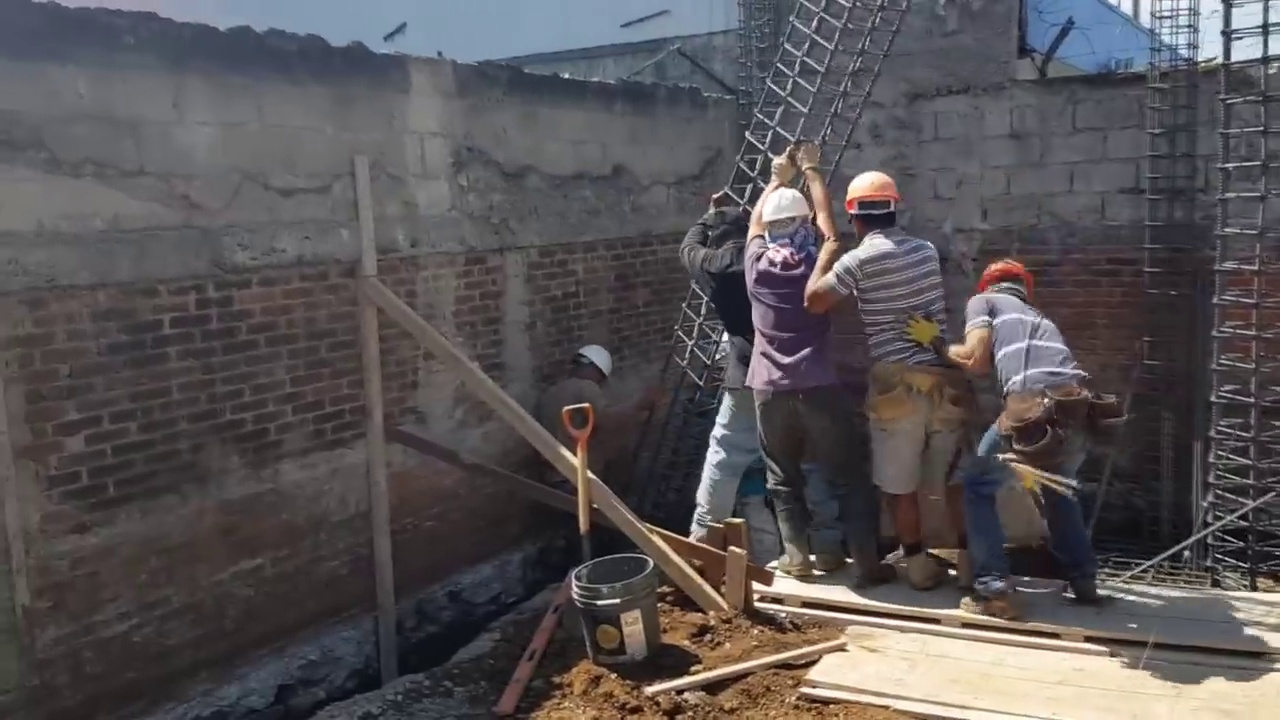helmet: (758, 178, 818, 231), (844, 171, 906, 220), (978, 256, 1035, 293), (579, 344, 613, 378)
helmet-off: (707, 206, 748, 251)
helmet-on: (758, 178, 820, 263), (846, 172, 906, 242), (979, 254, 1035, 300), (570, 344, 614, 392)
person: (809, 170, 973, 593), (963, 269, 1122, 599), (747, 150, 848, 577), (676, 199, 760, 553), (537, 337, 669, 481)
